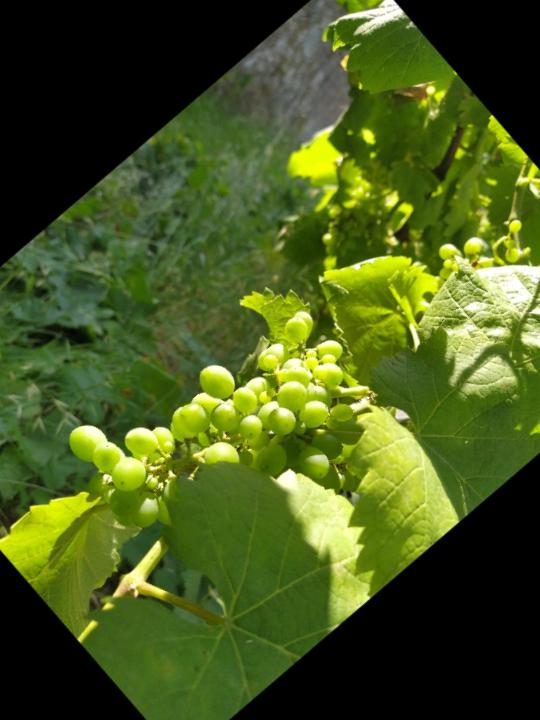grape: (49, 250, 418, 608)
